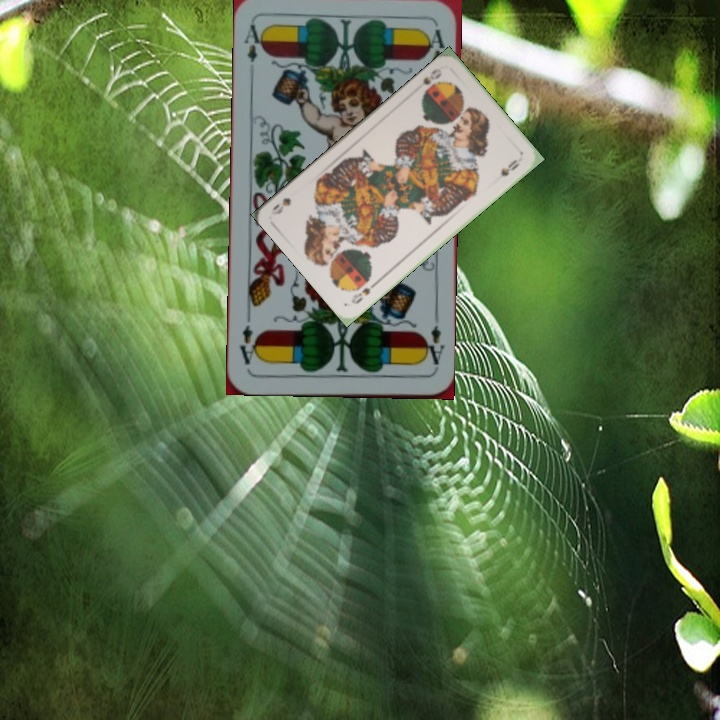EA: (419, 313, 447, 372), (240, 21, 267, 65)
SO: (412, 64, 444, 98), (347, 277, 381, 307)
